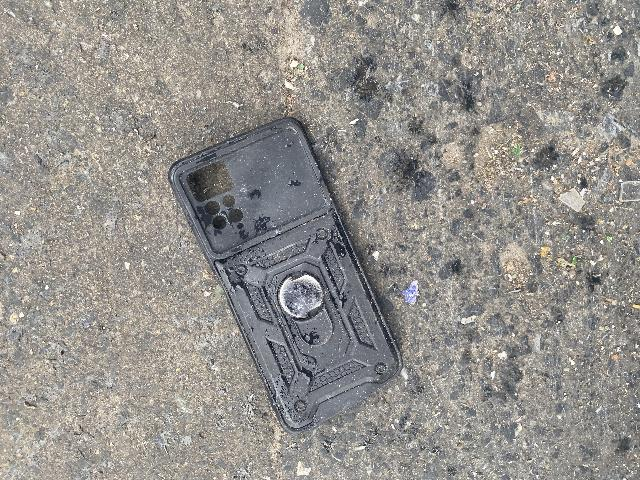Plastik: (157, 124, 411, 430)
